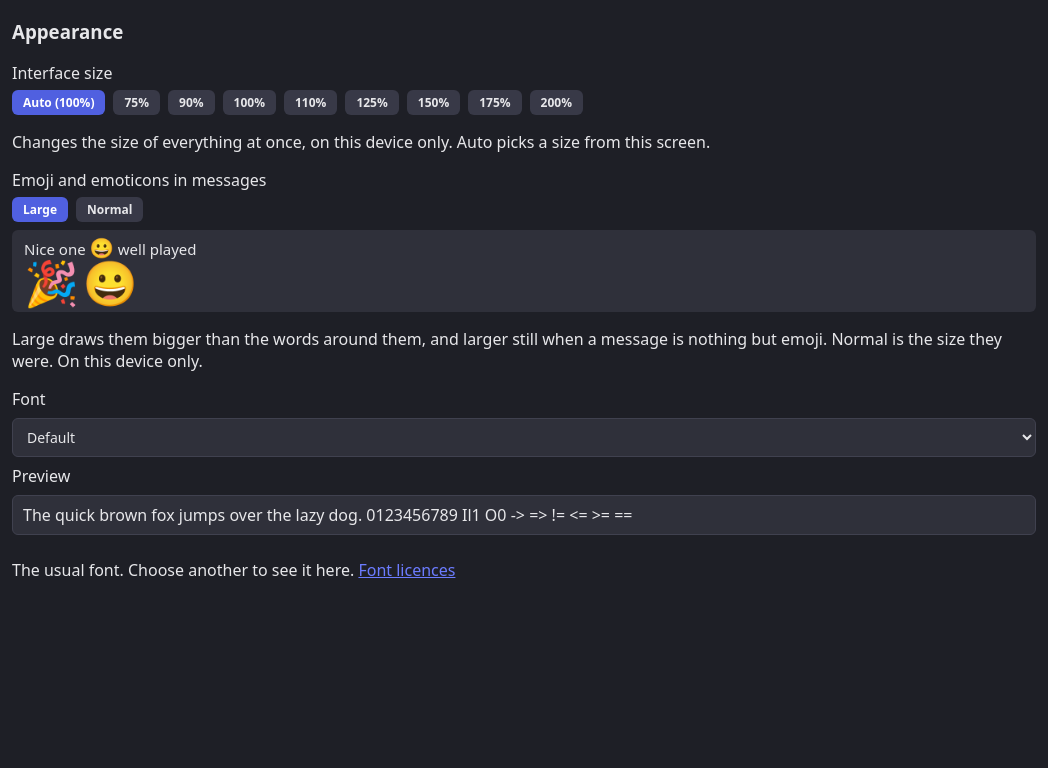
it: the Ligatures option is only offered where it can do something (#208) › is not offered for IBM Plex Mono, which has none, and says so
Select "IBM Plex Mono" in the dropdown labelled "Font" at (524, 438), box [12, 418, 1036, 457]
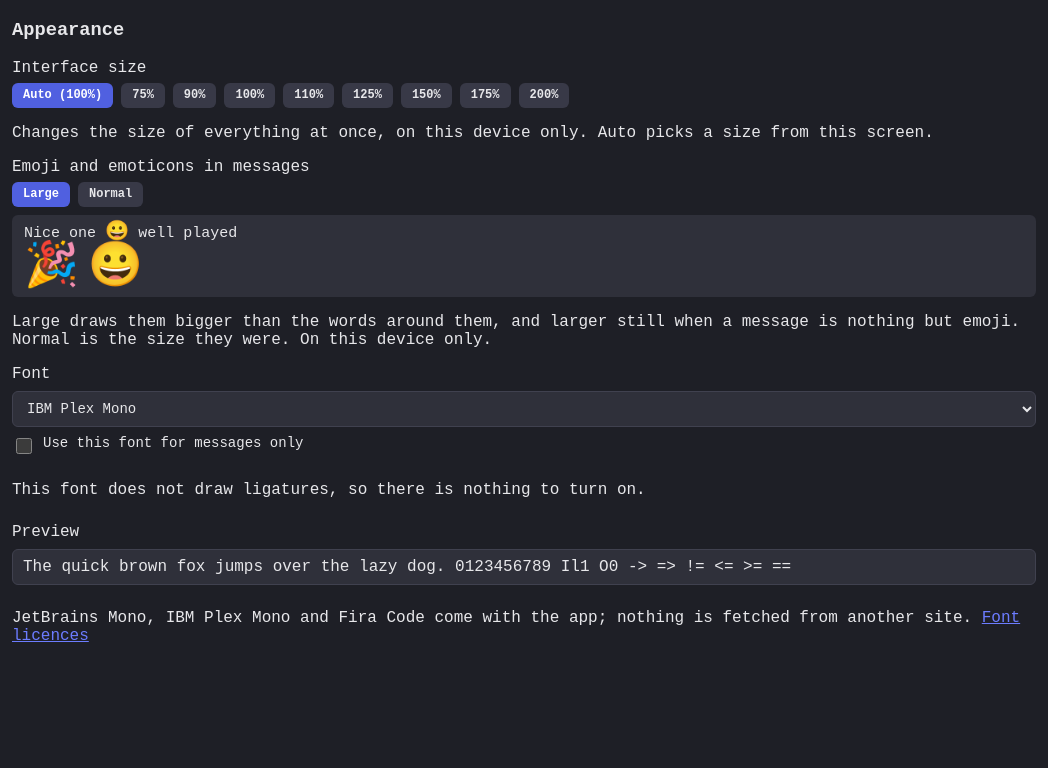
Expected: the text "This font does not draw ligatures, so there is nothing to turn on." is shown, [12, 481, 646, 499]
